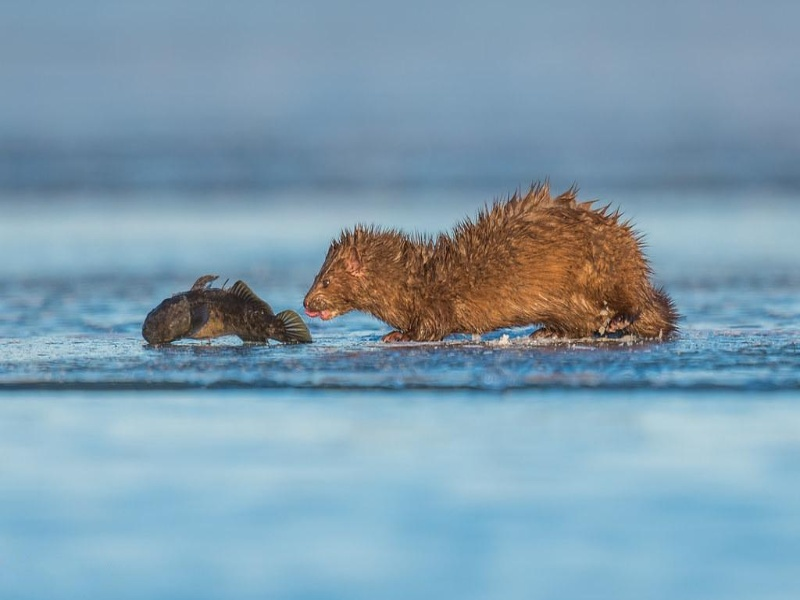minkish: (302, 177, 679, 345)
